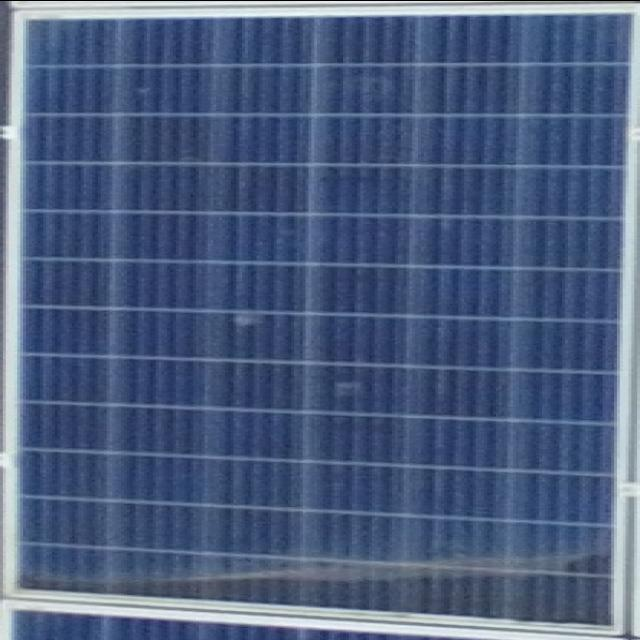Dust: (25, 542, 634, 625)
bird-droppings: (226, 311, 276, 329)
